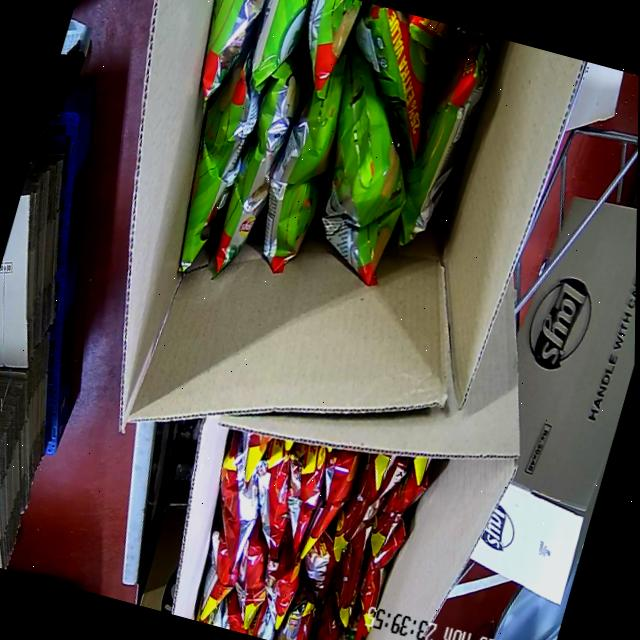MASALA: (178, 404, 436, 640)
YOGURT_HERB: (127, 0, 513, 335)
